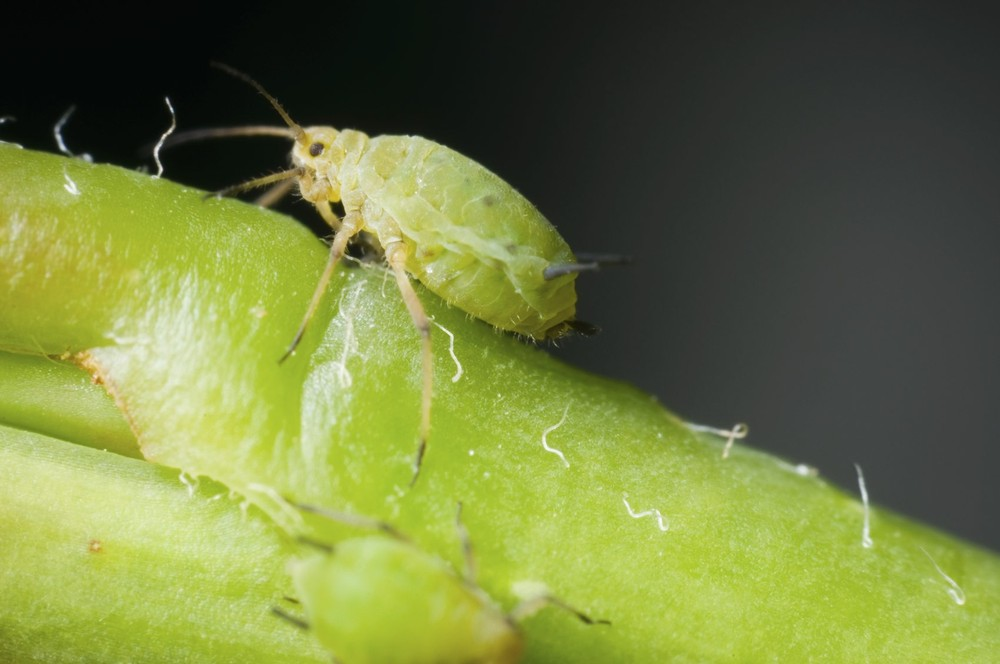Pulgon: (174, 46, 646, 421)
